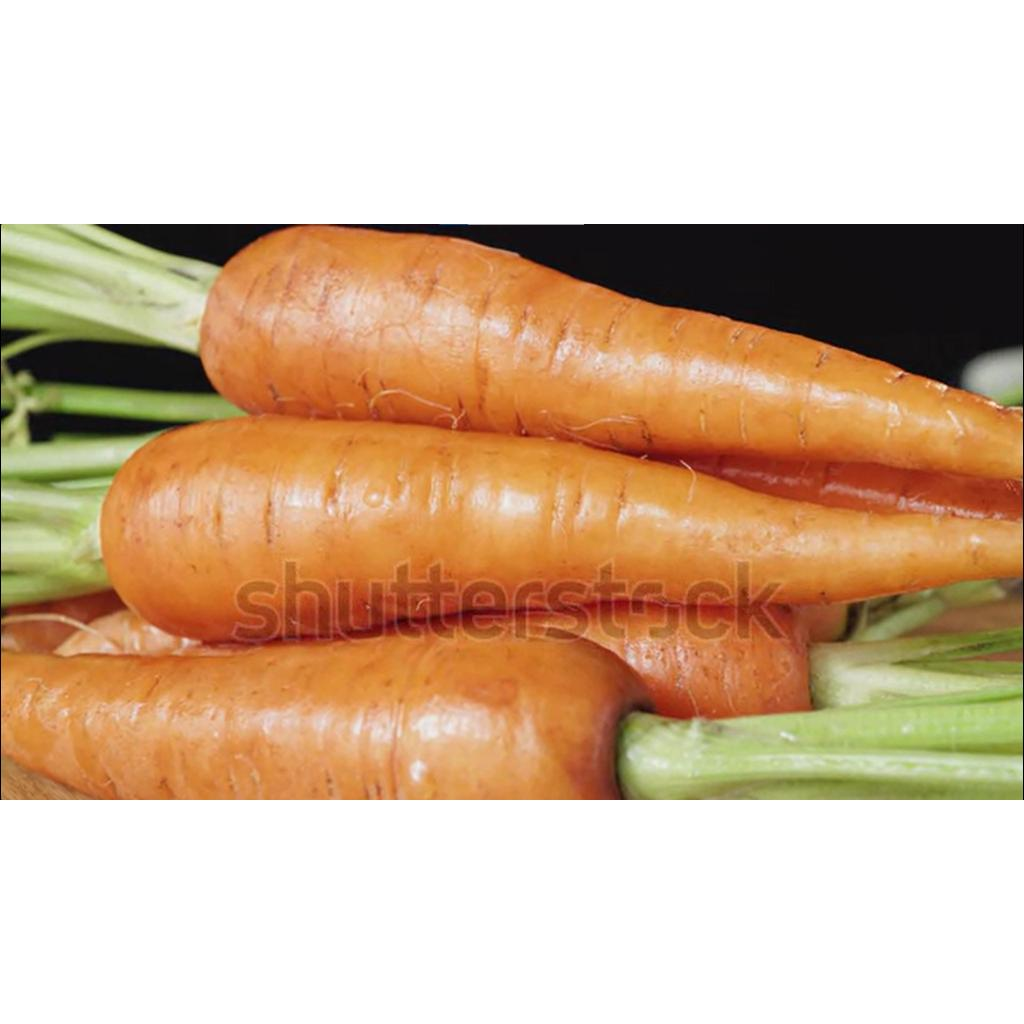carrot: (100, 416, 1022, 642), (200, 228, 1022, 480), (2, 636, 650, 798), (320, 604, 804, 721)
